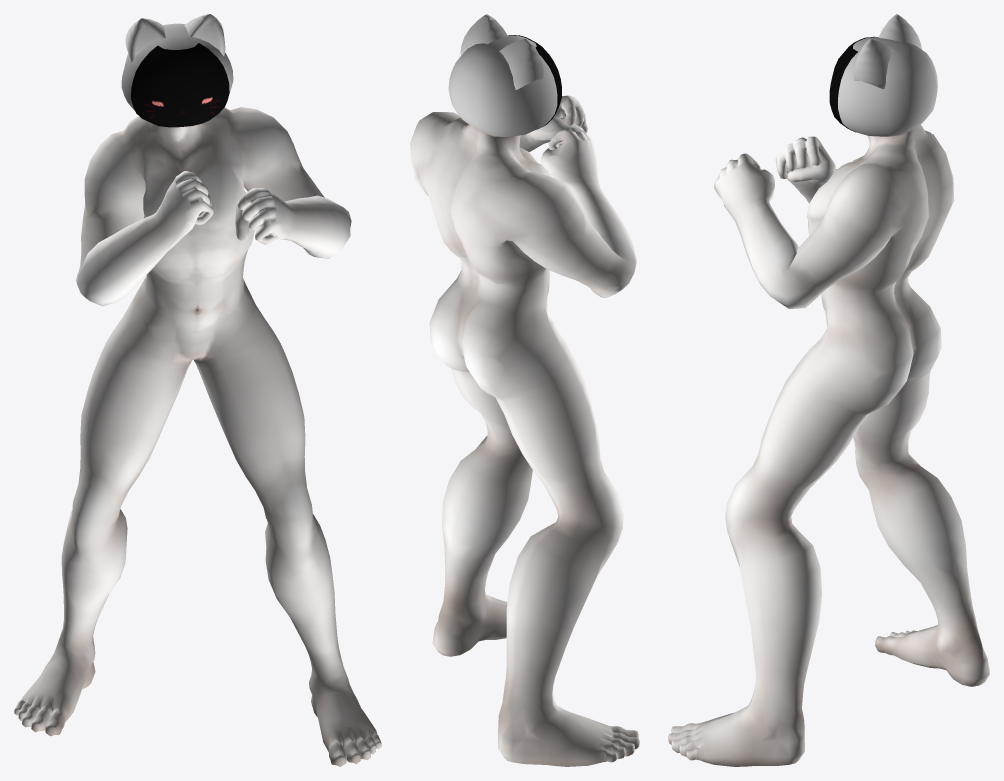
3 views of the same model, side by side, from view 1: azimuth 30°, elevation 25°; view 2: azimuth 150°, elevation 25°; view 3: azimuth 270°, elevation 25° (orthographic).
Parts seen in each view (by area): view 1: Muscle_Body, ______?001, Cat_Head; view 2: Muscle_Body, Cat_Head, ______?001; view 3: Muscle_Body, Cat_Head, ______?001.
Part boxes in pixels (x1,y1,x2,y2): Muscle_Body: (14,107,381,766); ______?001: (131,43,229,127); Cat_Head: (121,14,233,111); Muscle_Body: (410,95,639,766); Cat_Head: (448,14,557,136); ______?001: (509,35,561,129); Muscle_Body: (668,124,989,766); Cat_Head: (838,14,937,136); ______?001: (829,36,874,132).
Bounding box in the file's own units: 11.36 × 28.17 × 11.98.
